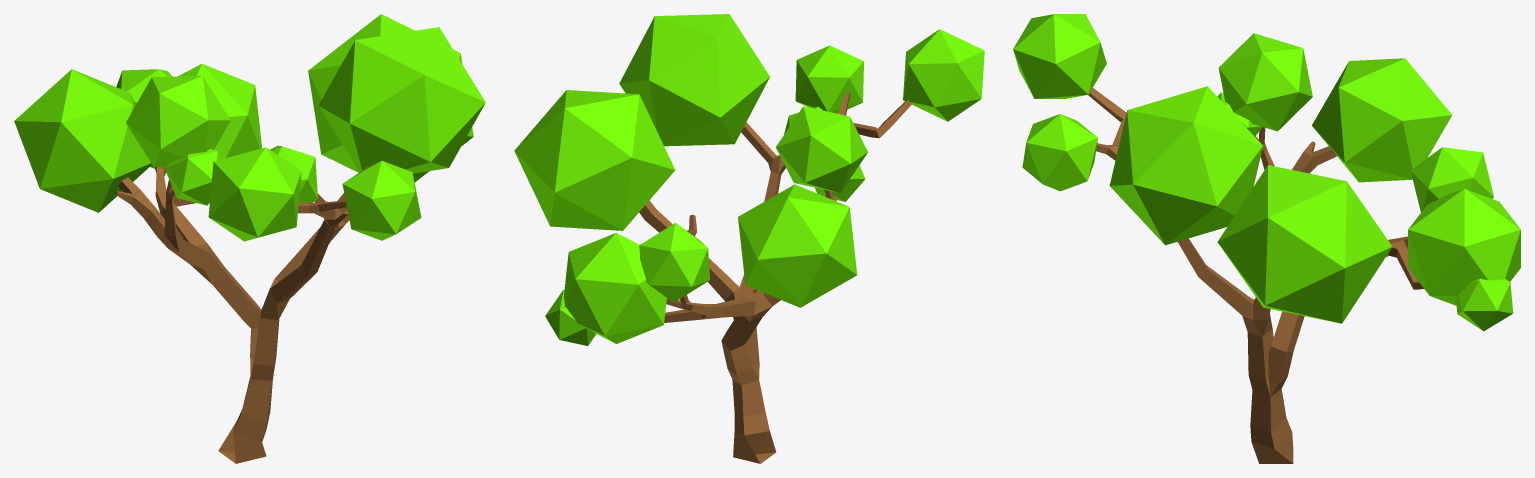
The model's file is albero-iconsphare.glb.
3 views of the same model, side by side, from view 1: azimuth 30°, elevation 25°; view 2: azimuth 150°, elevation 25°; view 3: azimuth 270°, elevation 25° (orthographic). The views are drawn at different scales.
Parts seen in each view (by area): view 1: Icosphere, Cube; view 2: Icosphere, Cube; view 3: Icosphere, Cube.
Part boxes in pixels (bbox=[...]): Icosphere: bbox=[14, 14, 485, 241]; Cube: bbox=[115, 166, 369, 463]; Icosphere: bbox=[514, 14, 984, 345]; Cube: bbox=[639, 91, 912, 463]; Icosphere: bbox=[1013, 14, 1520, 331]; Cube: bbox=[1088, 87, 1423, 463].
Size of the model in its own units: 3.61 by 3.72 by 4.2.
